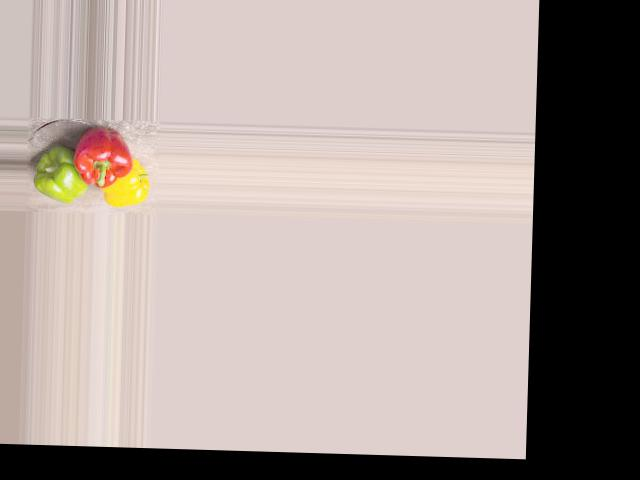bell_pepper: (102, 156, 150, 210)
